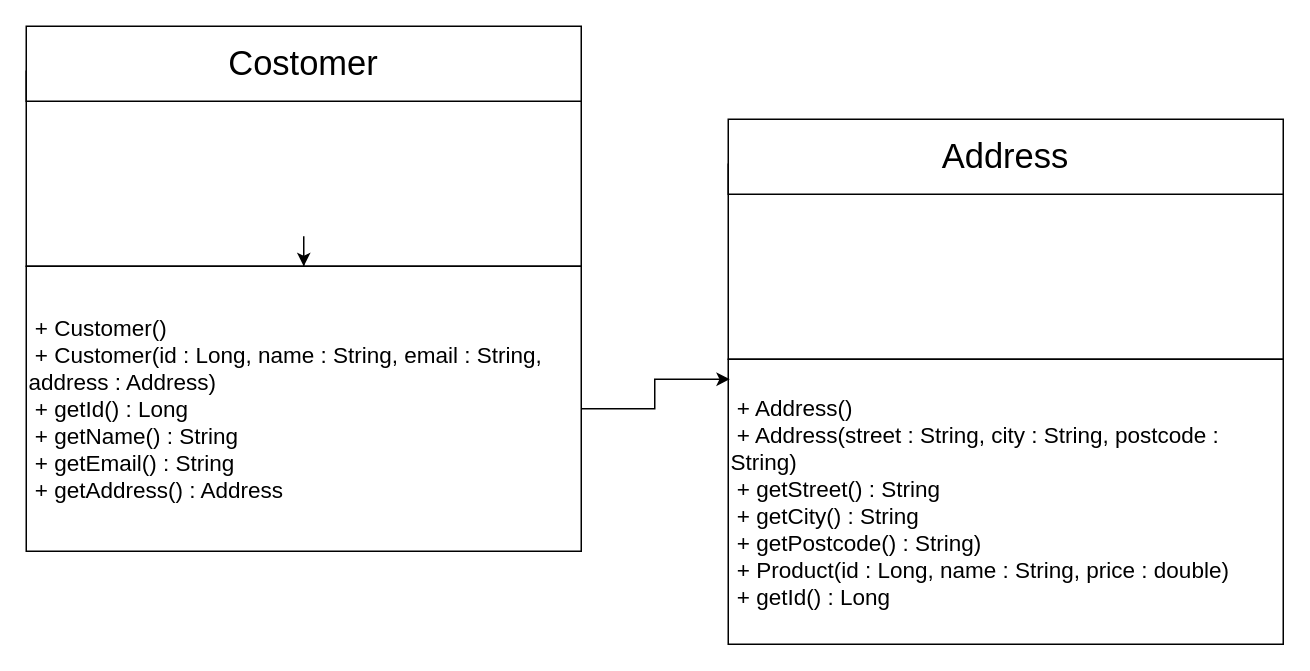
Image size: 1310x671. Some labels were removed from this diagram. The shapes that lost their labels are listed below. From the top down, each one's centre as x and y in pixels, then its label:
At [303,168]: "- id : Long - name : String - email : String - address : Address".
At [1005,261]: "- street : String - city : String - postcode : String".
